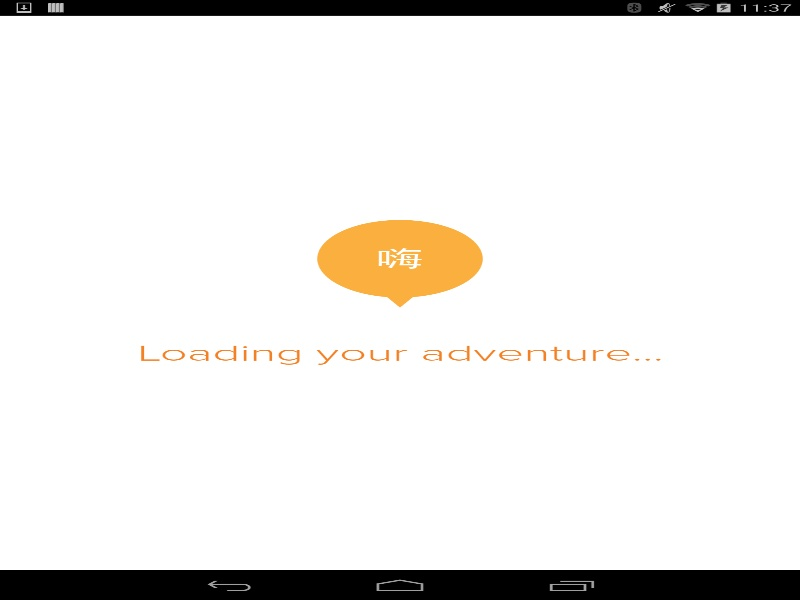Button: (240, 275, 560, 310), (292, 355, 508, 385), (581, 224, 698, 255)
Input: (101, 182, 698, 214), (101, 224, 698, 255)
